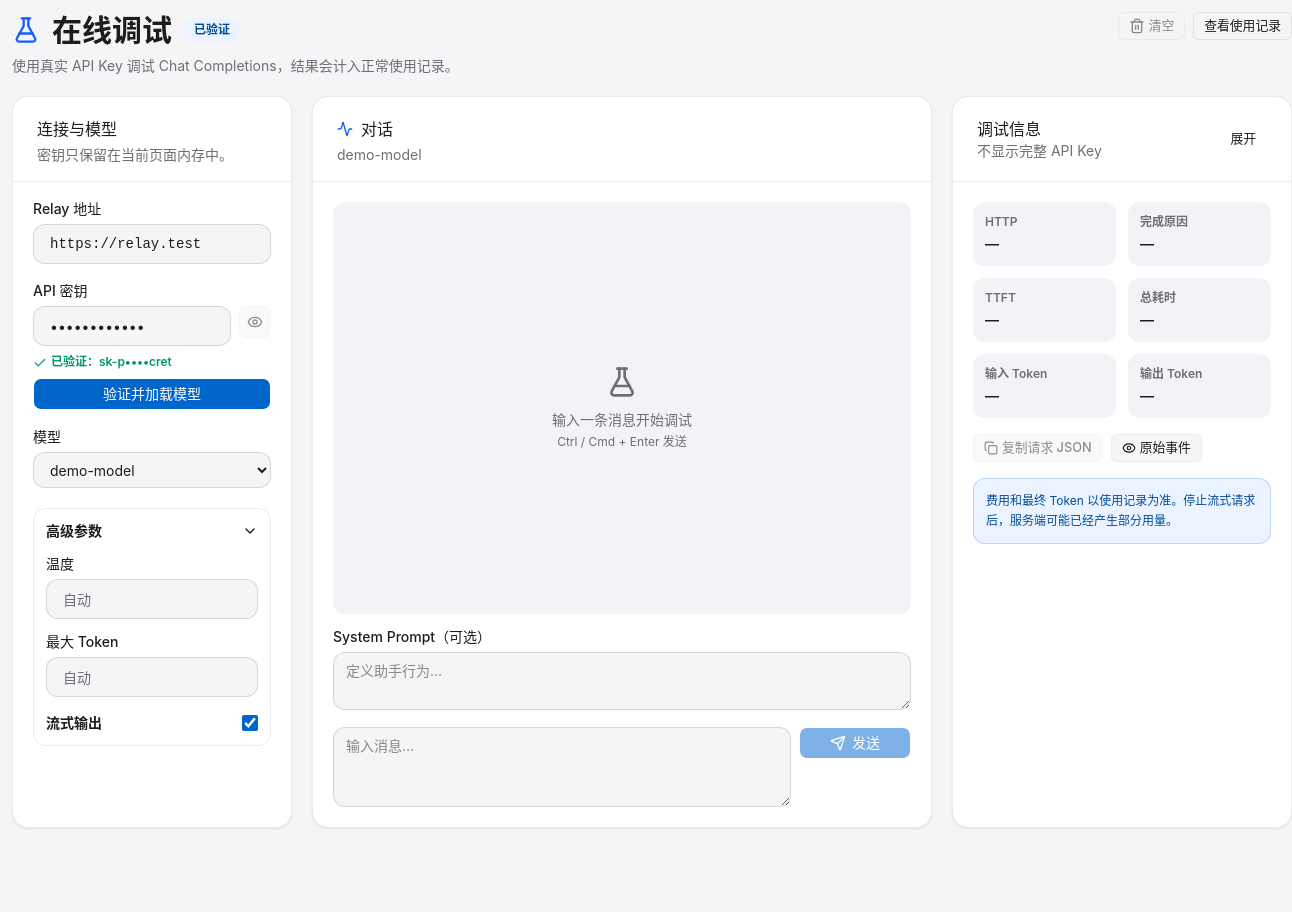
Test: PlaygroundPage › reuses a historical user message as an editable draft without sending automatically
Expected: the text "已验证：sk-p••••cret" is shown, [33,354,172,370]
Click the checkbox labelled "流式输出" at [250, 723], box [242,715,258,731]
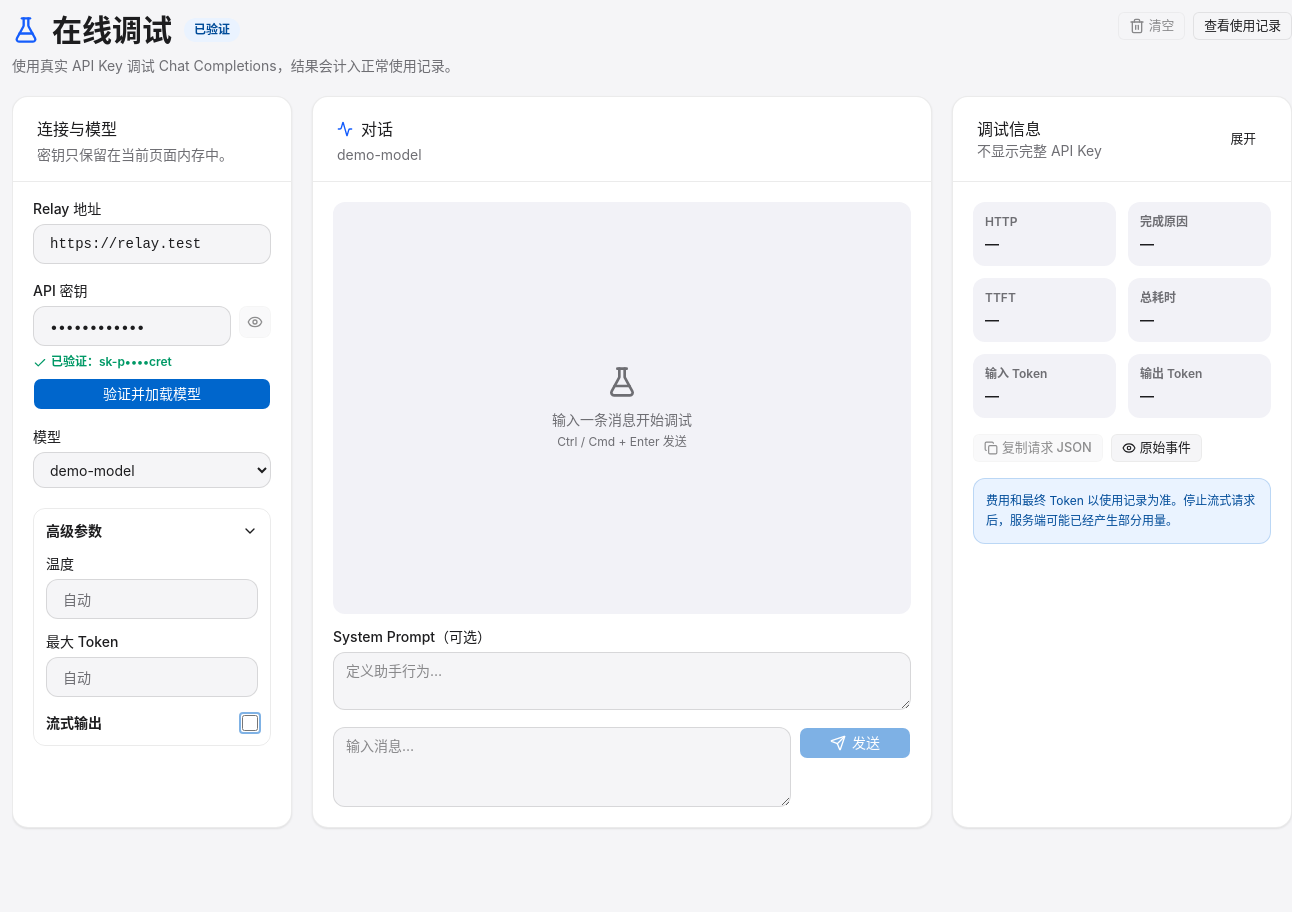
Type "first question" into the text box labelled "输入消息" at [562, 767], box [333,727,791,807]
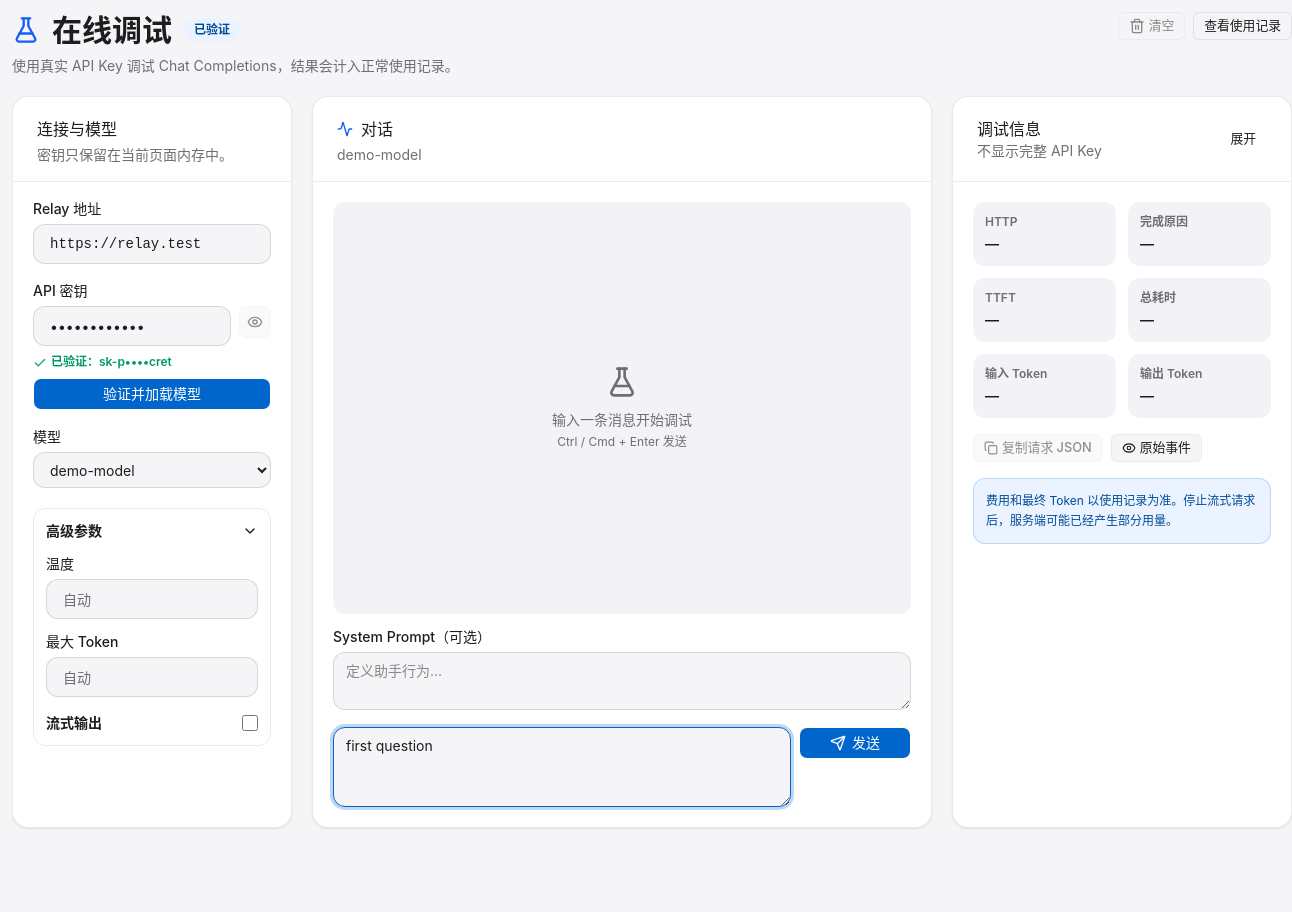
Click the button "发送" at [855, 743], box [799,727,911,759]
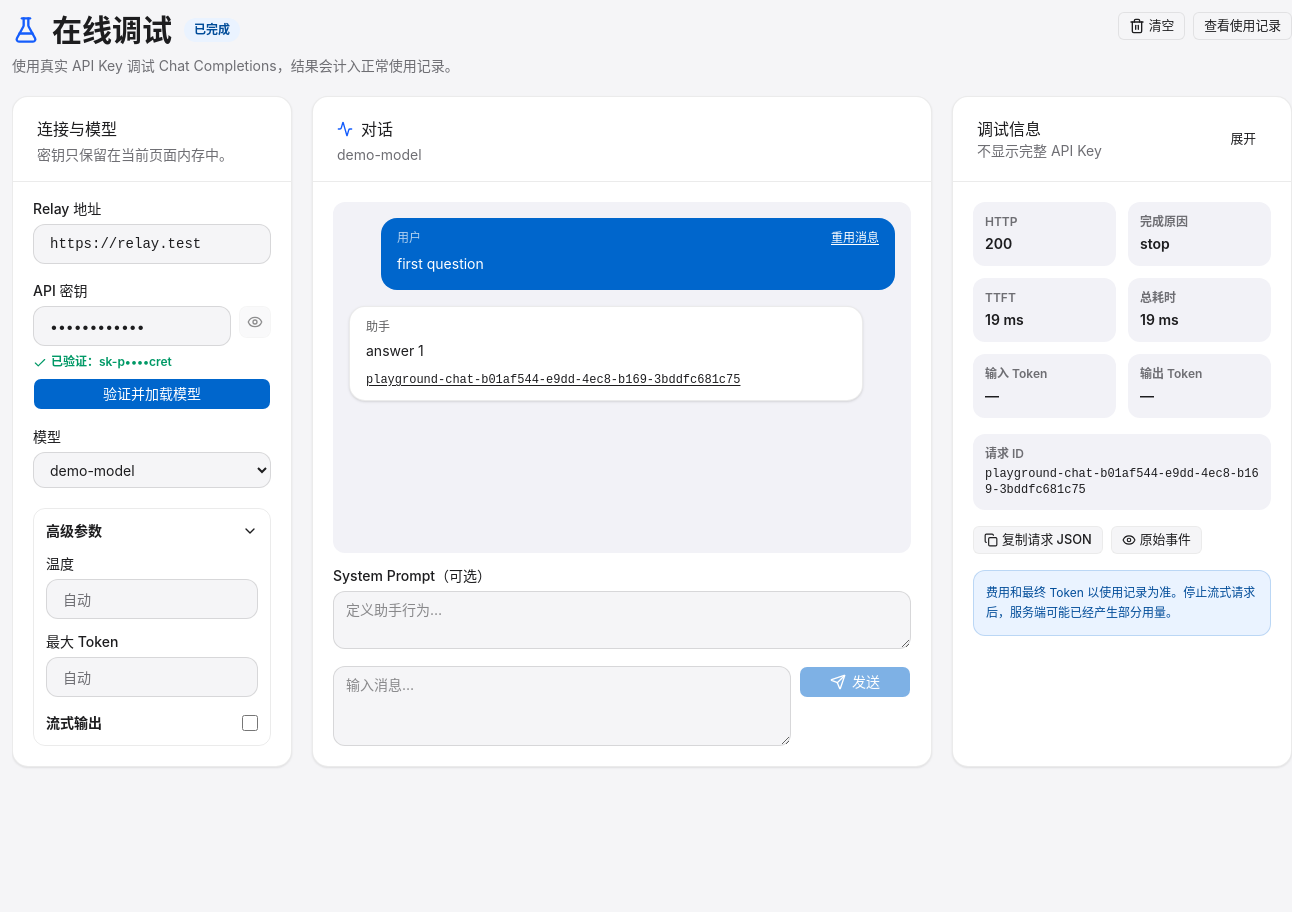
Expected: the text "answer 1" is shown, [366,342,424,359]
Click the button "重用消息" at [855, 238], box [831,230,879,246]
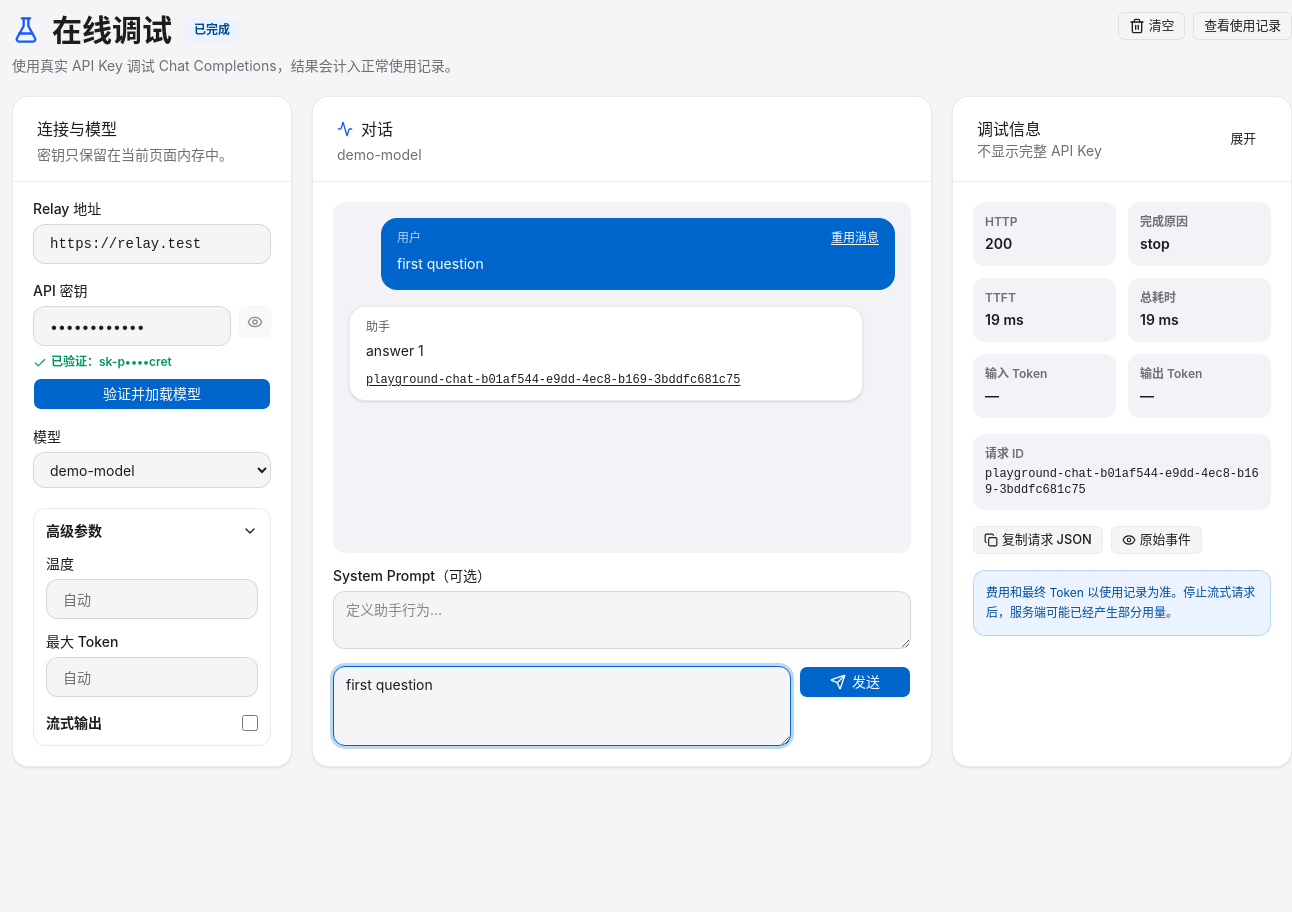
Expected: the text "answer 1" is shown, [366,342,424,359]
Type " edited" into the text box named "输入消息" at [562, 706], box [333,666,791,746]
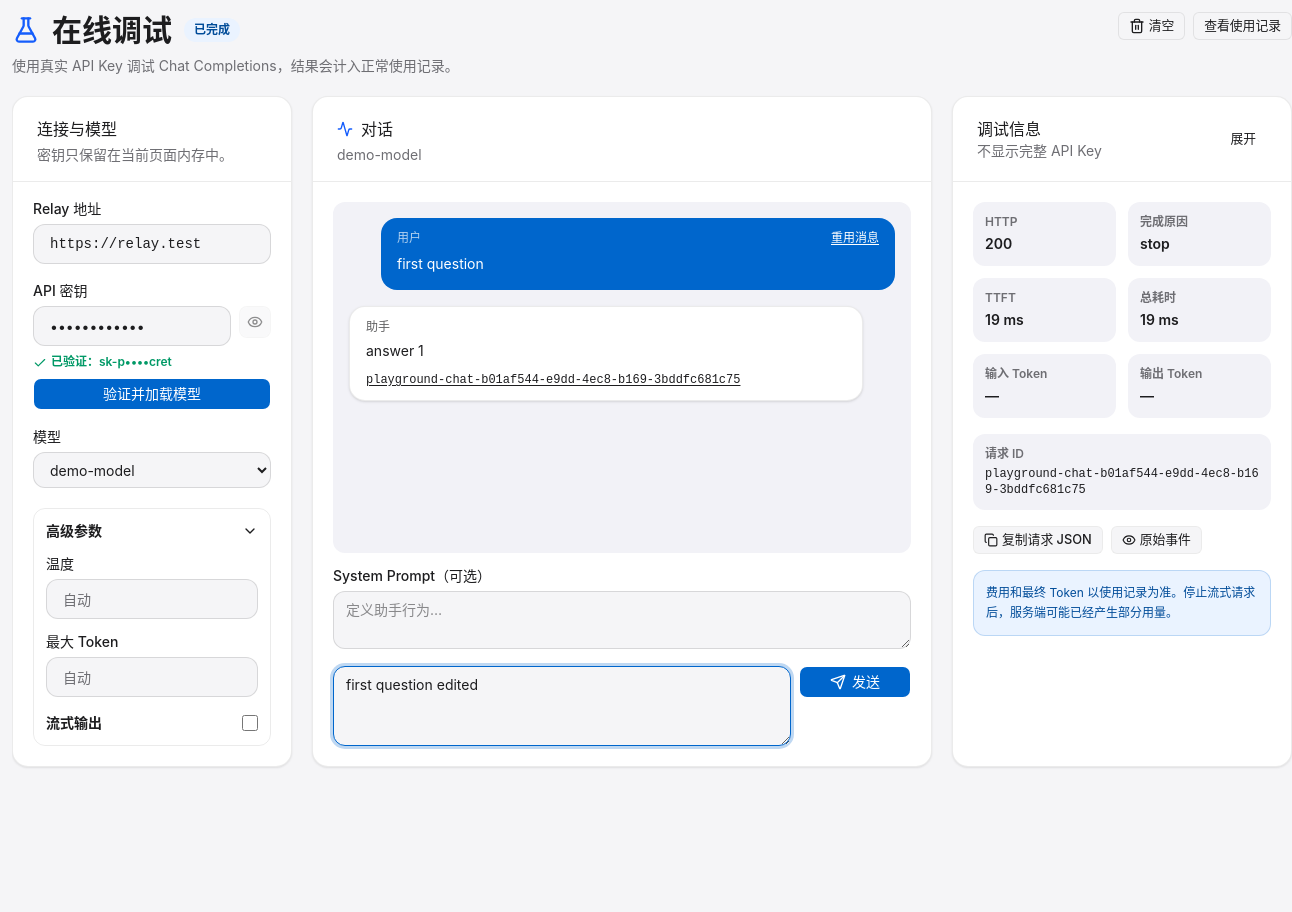
Click the button "发送" at [855, 682], box [799,666,911,698]
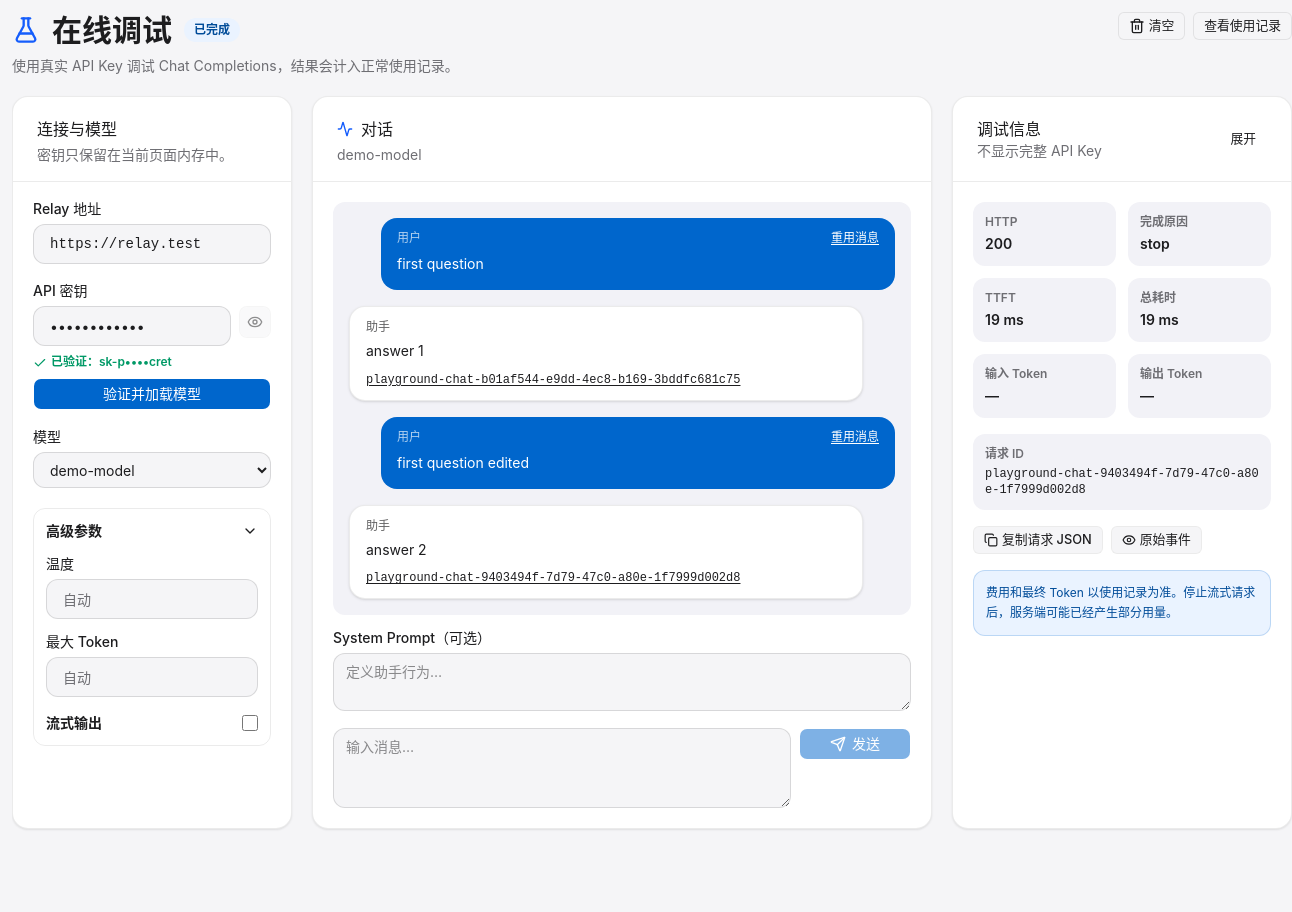
Expected: the text "answer 2" is shown, [366,540,427,558]
Expected: the number of buttons "重用消息" is 2, [831,230,879,246]; [831,428,879,444]
